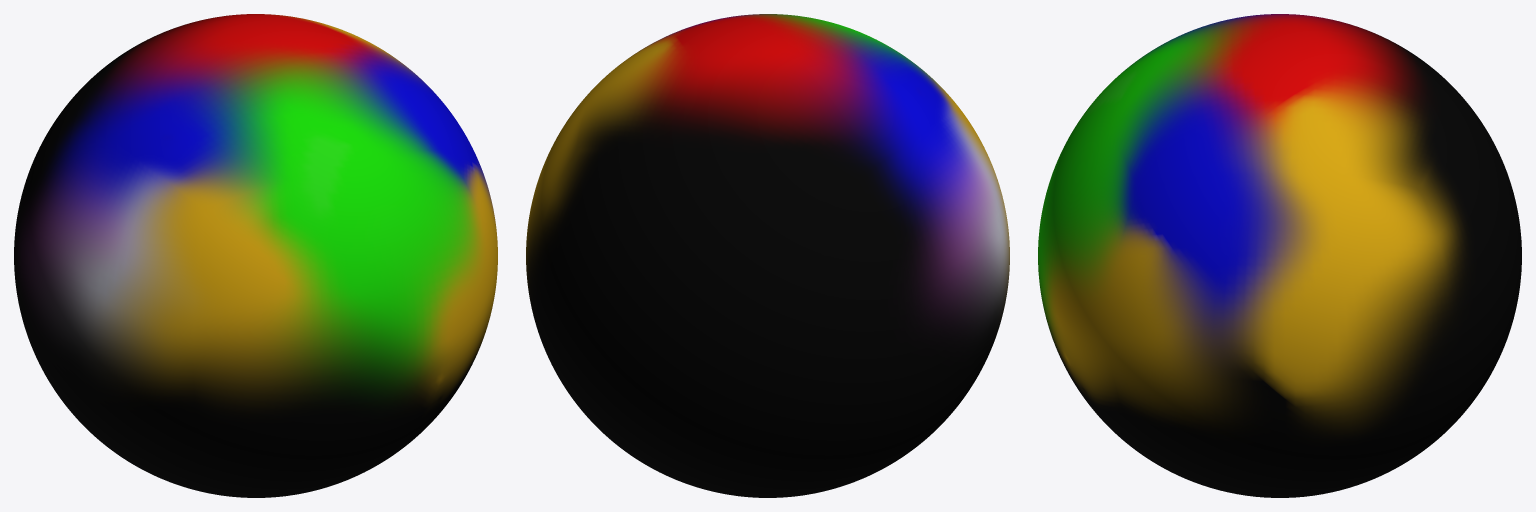
The picture shows the model from 3 angles, left to right: view 1: azimuth 30°, elevation 25°; view 2: azimuth 150°, elevation 25°; view 3: azimuth 270°, elevation 25°; orthographic projection.
Parts seen in each view (by area): view 1: Sphere; view 2: Sphere; view 3: Sphere.
Boxes of the visible parts, x1,y1,x2,y2 form: Sphere: (14,14,497,497); Sphere: (526,14,1009,497); Sphere: (1038,14,1521,497).
Bounding box in the file's own units: 216 × 216 × 216.
